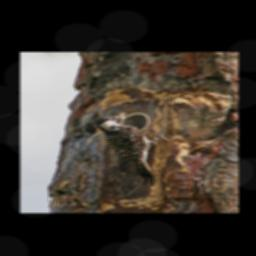Woodpecker: (95, 113, 169, 186)
